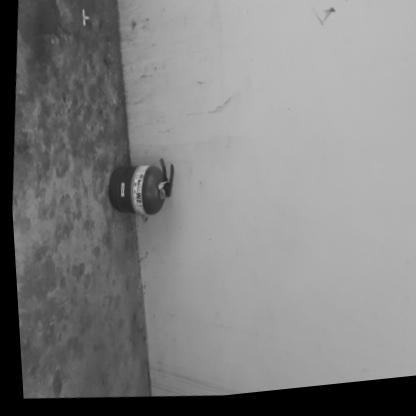FE: (100, 153, 175, 224)
